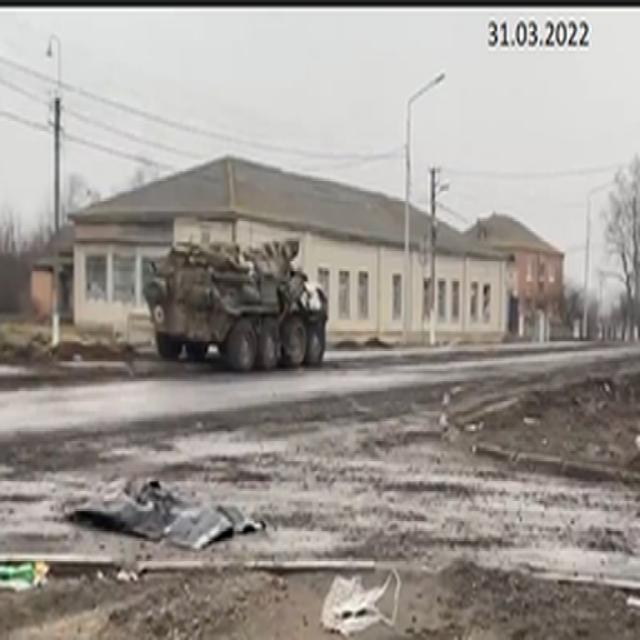APC-IFV: (135, 218, 333, 380)
